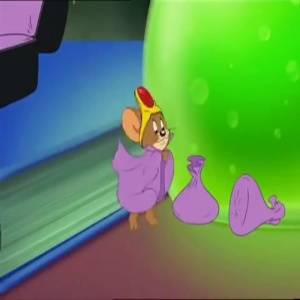Jerry: (114, 85, 179, 154)
